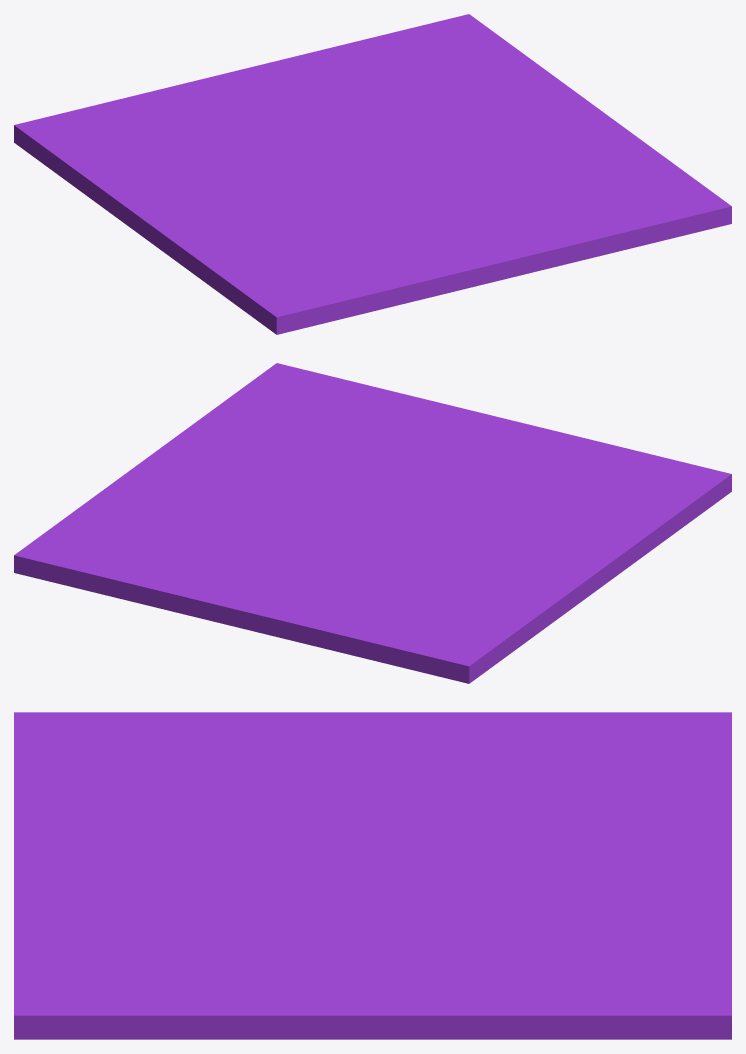
File: Platform_10_chunks.fbx
3 renders of one model, top to bottom at view 1: azimuth 30°, elevation 25°; view 2: azimuth 150°, elevation 25°; view 3: azimuth 270°, elevation 25°, orthographic. The views are drawn at different scales.
Visible parts, largest first — view 1: Platform_10_1, Platform_10_5, Platform_10_6, Platform_10_0, Platform_10_8, Platform_10_2, Platform_10_9, Platform_10_3, Platform_10_7, Platform_10_4; view 2: Platform_10_1, Platform_10_5, Platform_10_6, Platform_10_8, Platform_10_2, Platform_10_0, Platform_10_3, Platform_10_9, Platform_10_7, Platform_10_4; view 3: Platform_10_1, Platform_10_6, Platform_10_5, Platform_10_8, Platform_10_7, Platform_10_0, Platform_10_9, Platform_10_2, Platform_10_3, Platform_10_4.
Part boxes in pixels (left/top/right/bottom): Platform_10_1: left=172, top=163, right=535, bottom=334; Platform_10_5: left=14, top=72, right=251, bottom=186; Platform_10_6: left=358, top=14, right=599, bottom=136; Platform_10_0: left=439, top=176, right=731, bottom=290; Platform_10_8: left=303, top=41, right=492, bottom=170; Platform_10_2: left=74, top=157, right=266, bottom=262; Platform_10_9: left=407, top=135, right=731, bottom=211; Platform_10_3: left=229, top=54, right=356, bottom=146; Platform_10_7: left=518, top=110, right=731, bottom=213; Platform_10_4: left=235, top=142, right=368, bottom=203; Platform_10_1: left=362, top=411, right=731, bottom=562; Platform_10_5: left=254, top=568, right=537, bottom=683; Platform_10_6: left=14, top=459, right=250, bottom=596; Platform_10_8: left=111, top=485, right=369, bottom=612; Platform_10_2: left=424, top=534, right=633, bottom=638; Platform_10_0: left=285, top=365, right=472, bottom=484; Platform_10_3: left=177, top=532, right=393, bottom=634; Platform_10_9: left=240, top=363, right=365, bottom=499; Platform_10_7: left=145, top=366, right=272, bottom=476; Platform_10_4: left=334, top=517, right=502, bottom=569; Platform_10_1: left=14, top=712, right=381, bottom=889; Platform_10_6: left=356, top=941, right=731, bottom=1039; Platform_10_5: left=492, top=712, right=731, bottom=855; Platform_10_8: left=337, top=864, right=731, bottom=944; Platform_10_7: left=14, top=956, right=413, bottom=1039; Platform_10_0: left=14, top=885, right=297, bottom=1039; Platform_10_9: left=14, top=877, right=374, bottom=1019; Platform_10_2: left=299, top=712, right=543, bottom=800; Platform_10_3: left=450, top=816, right=731, bottom=904; Platform_10_4: left=339, top=785, right=509, bottom=871.
Size of the model in its own units: 810 by 29.87 by 810.
